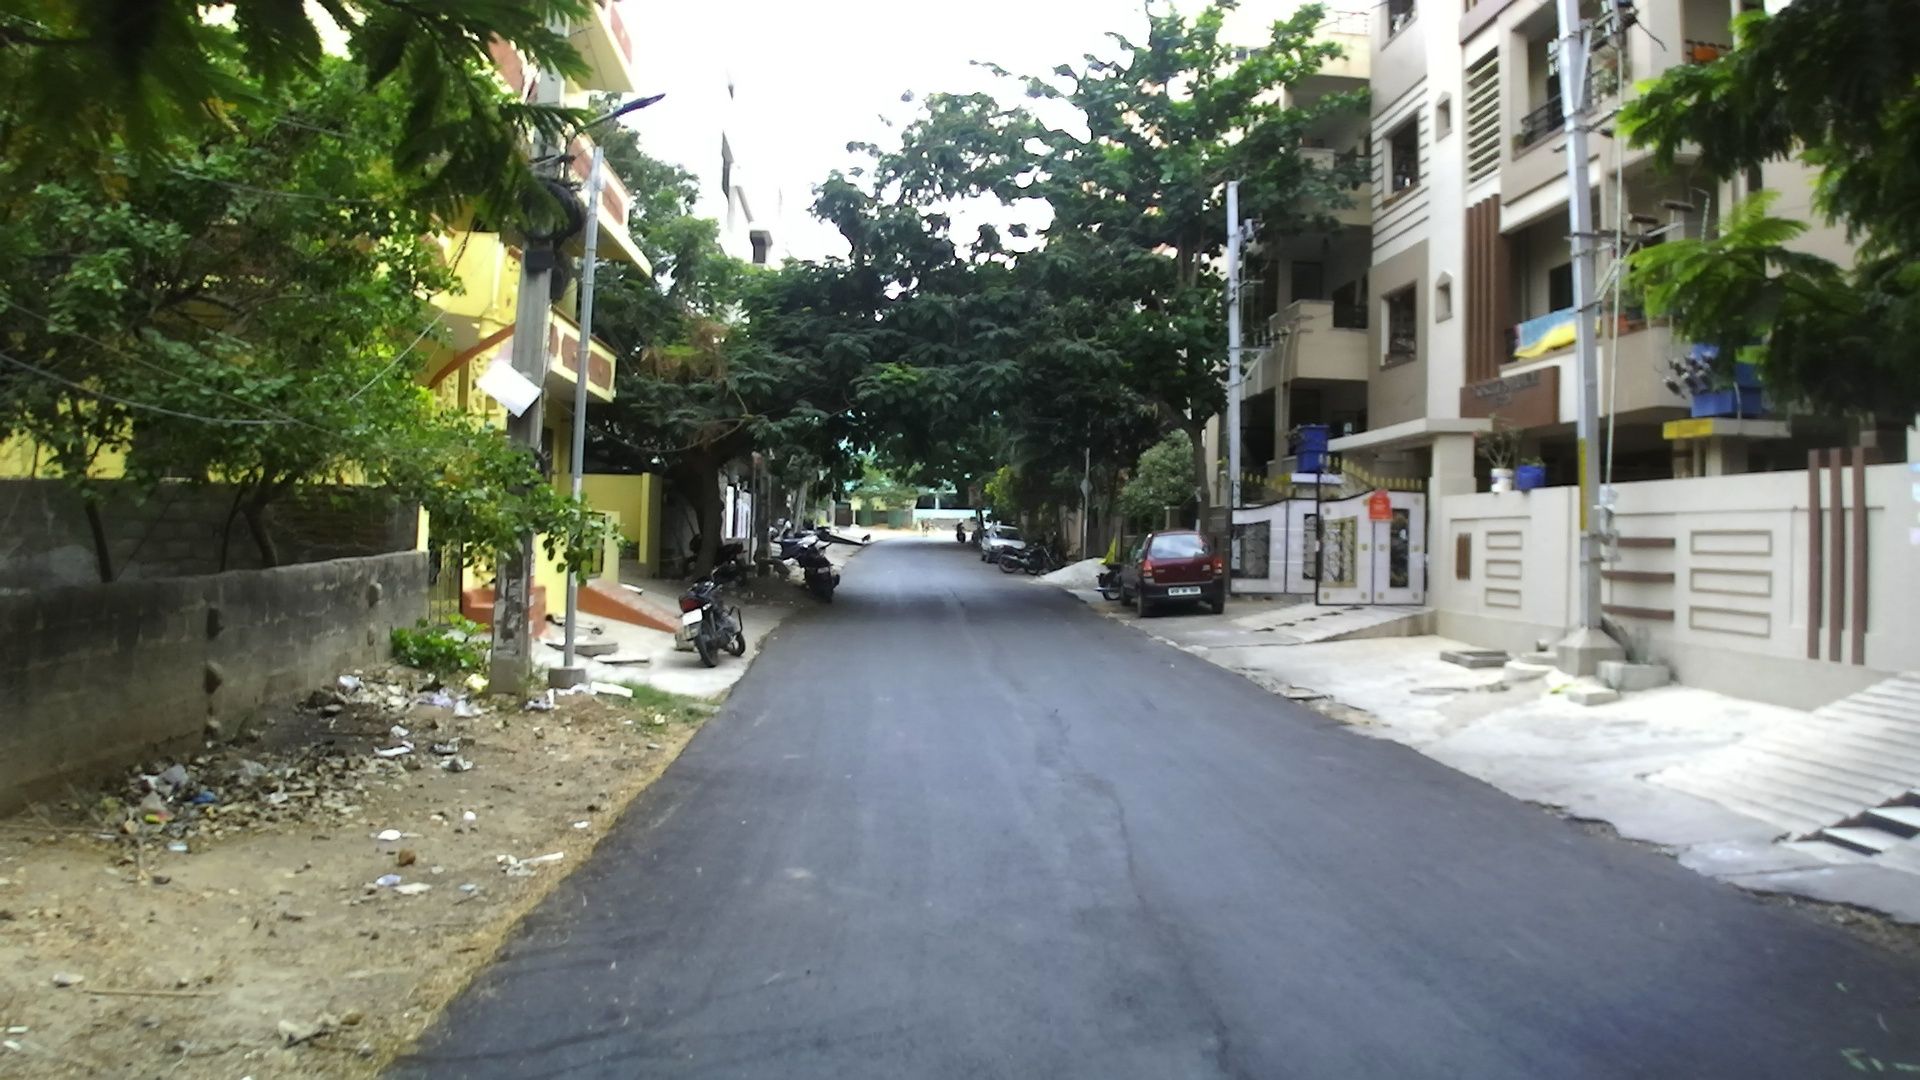vehicle: (1125, 531, 1230, 618), (676, 582, 748, 665), (978, 530, 1040, 572), (975, 520, 1029, 560)
